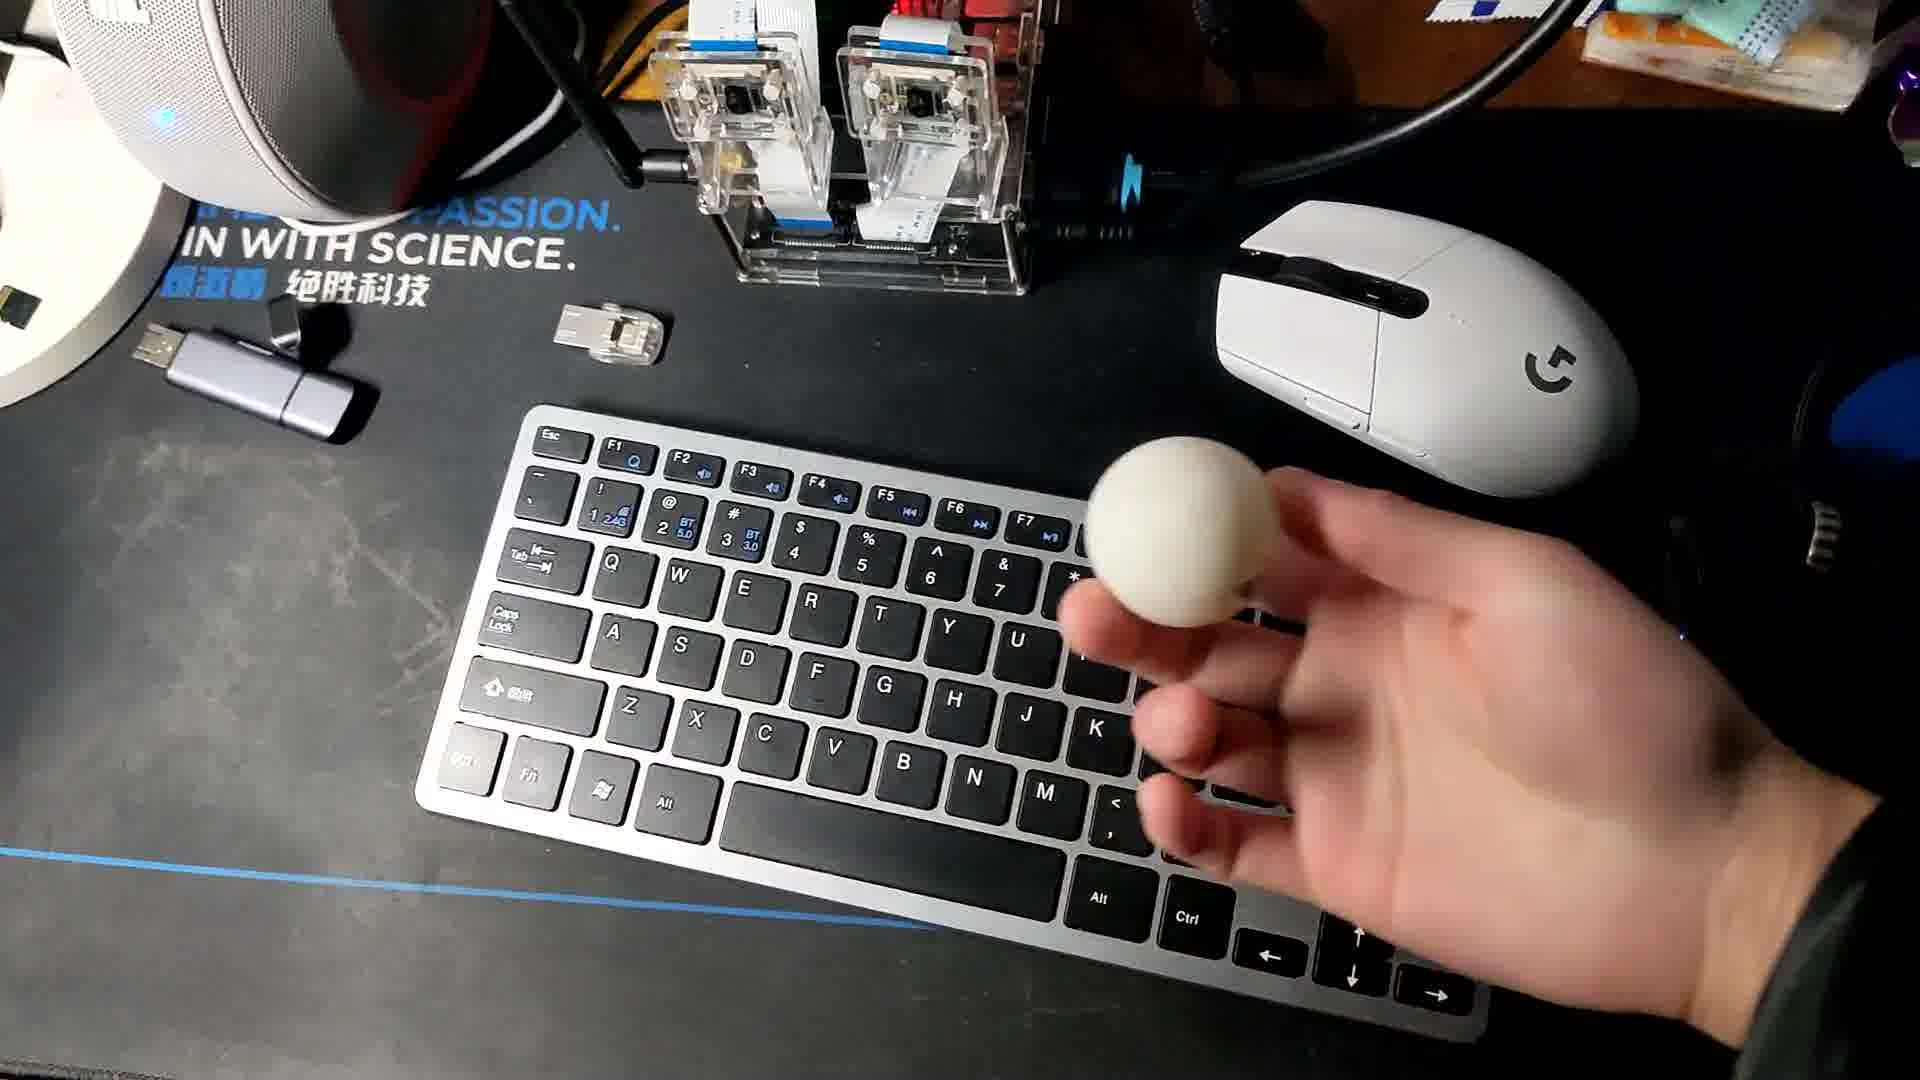Ball: (1091, 426, 1270, 636)
